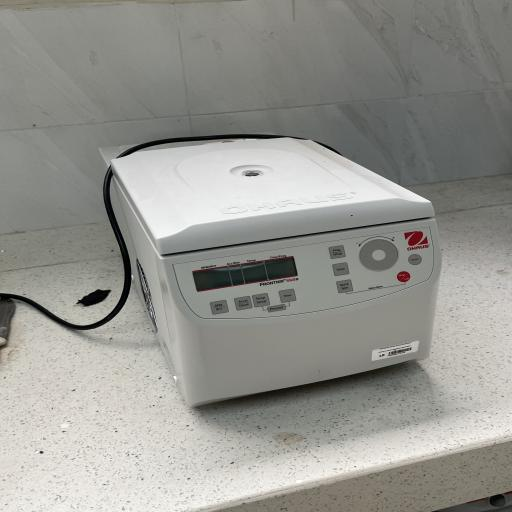Centrifuga_Ohaus_Frontier: (88, 126, 453, 414)
